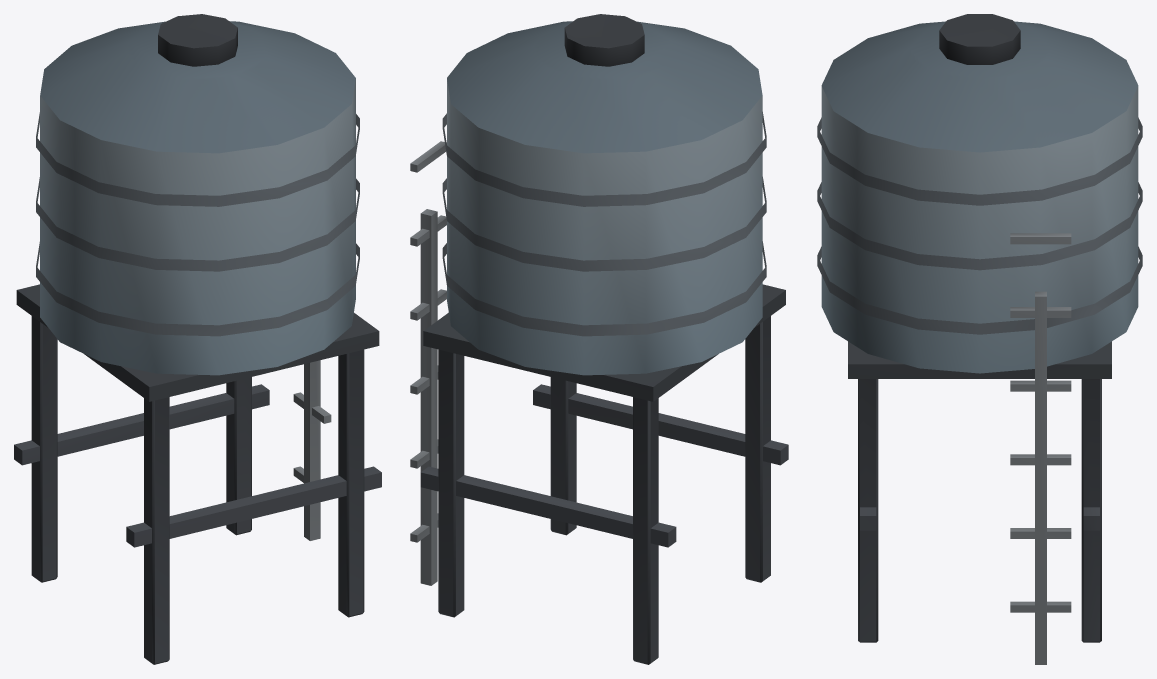
File: tanque_agua_b.glb
3 renders of one model, left to right at view 1: azimuth 30°, elevation 25°; view 2: azimuth 150°, elevation 25°; view 3: azimuth 270°, elevation 25°, orthographic.
Visible parts, largest first — view 1: tanque_agua_b; view 2: tanque_agua_b; view 3: tanque_agua_b.
Boxes of the visible parts, x1,y1,x2,y2 form: tanque_agua_b: (14,14,381,664); tanque_agua_b: (410,14,788,664); tanque_agua_b: (817,14,1142,664).
Size of the model in its own units: 1.65 by 3.05 by 1.6.
